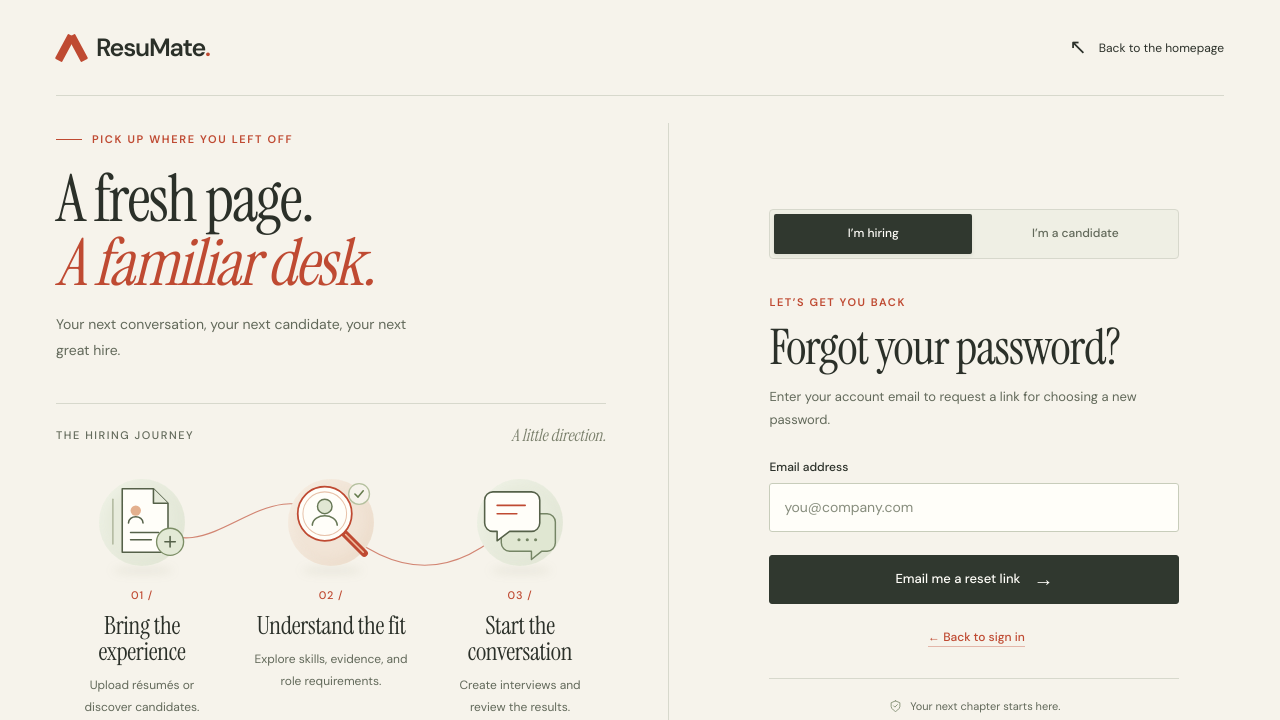
asking for a link › sends the address and shows the server's answer
Type " jane@co.com " into the field labelled "Email address" at (974, 507), box [769,483,1179,532]
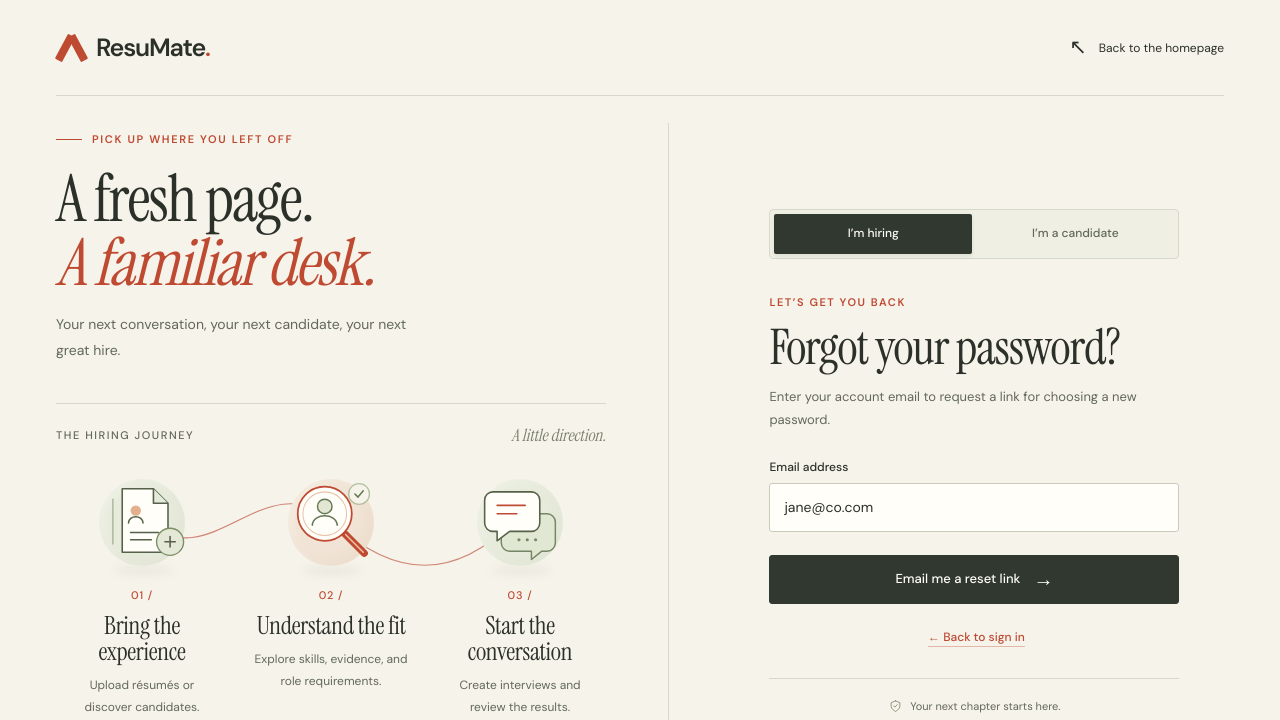
Click the button "Email me a reset link →" at (974, 579), box [769,555,1179,604]
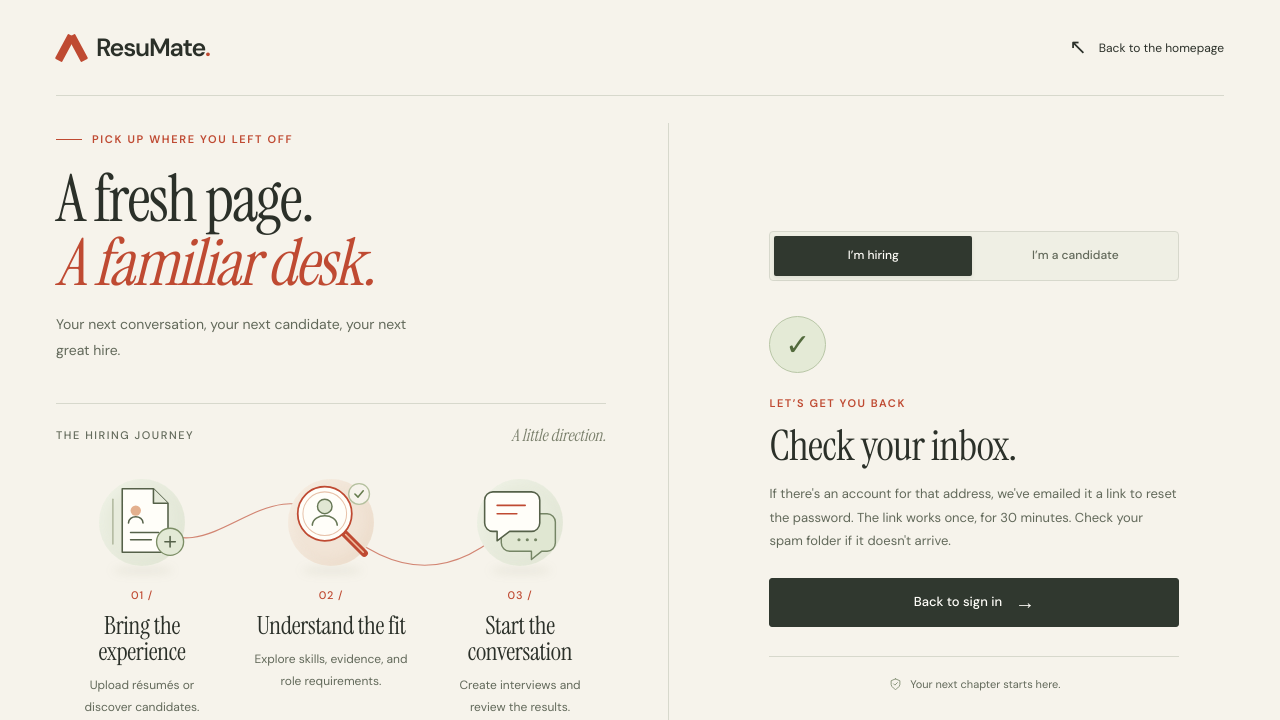
Expected: the message shows "If there's an account for that address, we've emailed it a link to reset the password.", [769,485,1177,526]
Expected: the button "Email me a reset link" is gone
